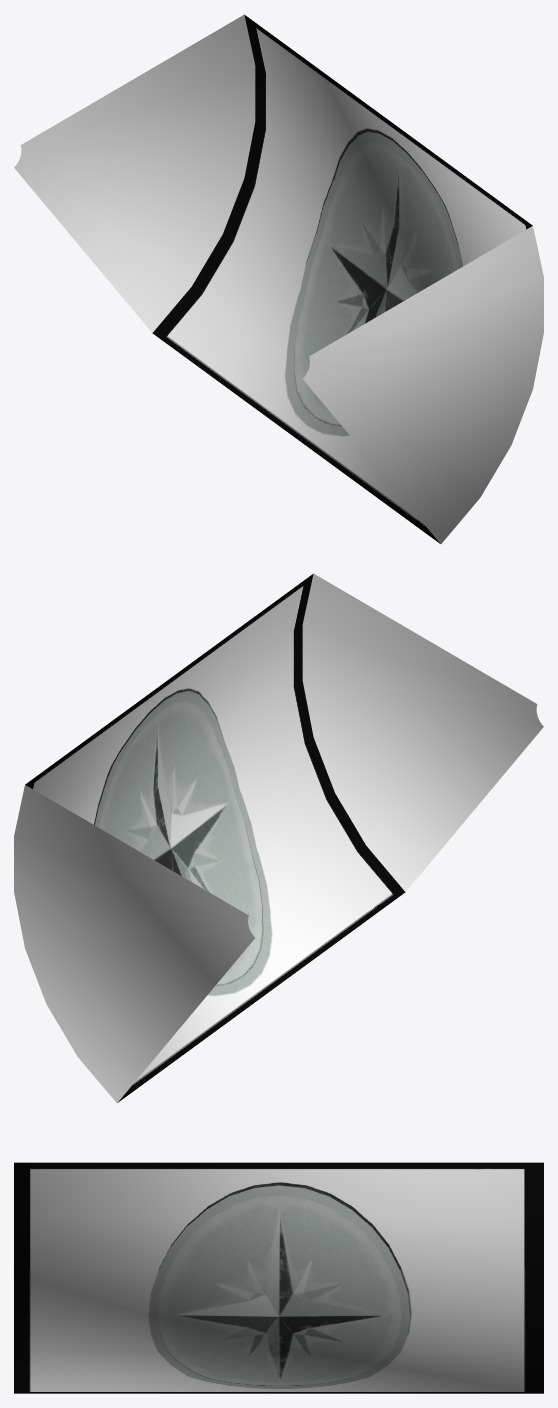
Rendered from roulette05.fbx.
3 views of the same model, one above another, from view 1: azimuth 30°, elevation 25°; view 2: azimuth 150°, elevation 25°; view 3: azimuth 270°, elevation 25° (orthographic). The views are drawn at different scales.
Parts seen in each view (by area): view 1: roulette05; view 2: roulette05; view 3: roulette05.
Part boxes in pixels (left/top/right/bottom): roulette05: left=14, top=14, right=543, bottom=543; roulette05: left=14, top=573, right=543, bottom=1102; roulette05: left=14, top=1162, right=543, bottom=1393.
Size of the model in its own units: 64.74 by 75.94 by 134.
